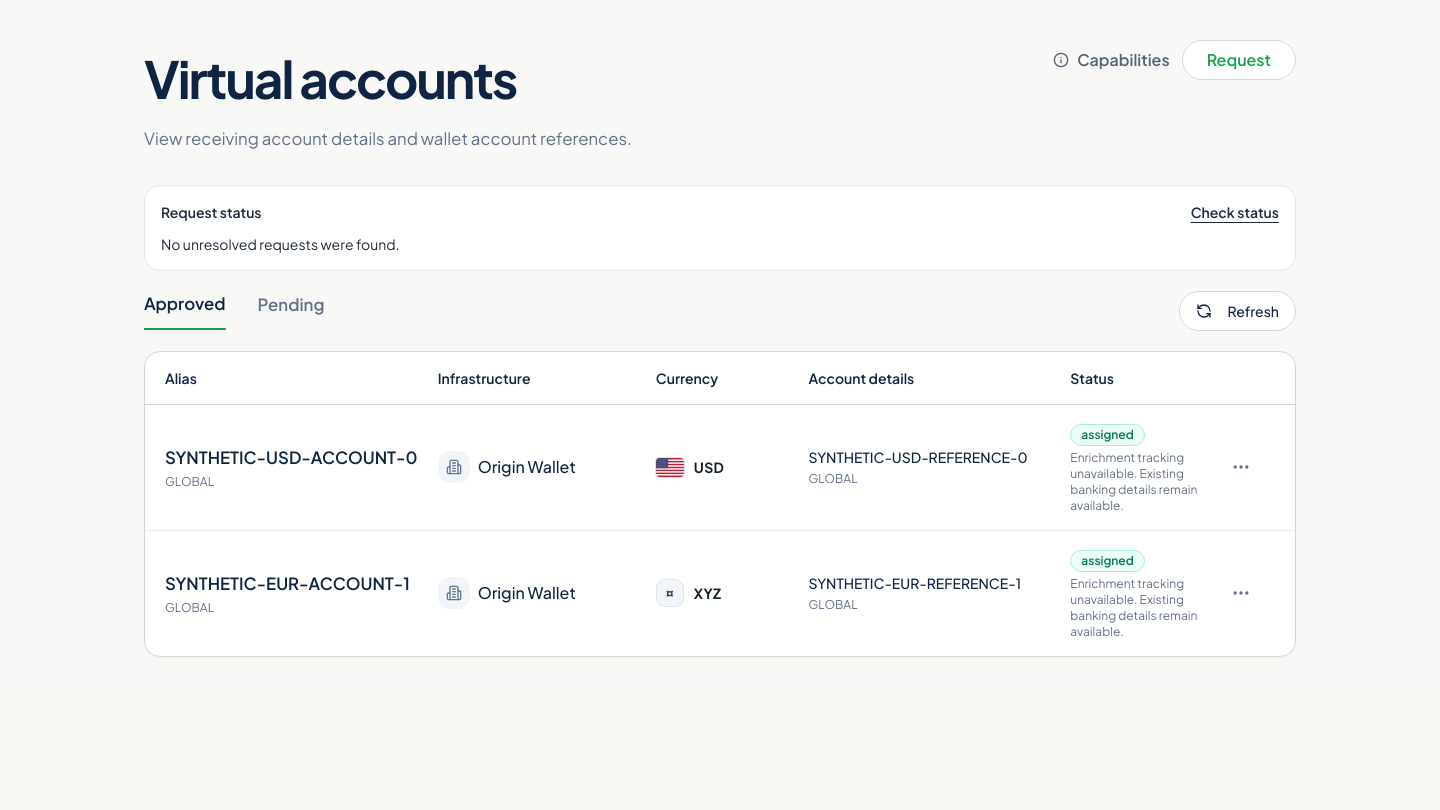
Scenario: Multi-currency VA presentation › uses the safe unknown currency fallback and never borrows another record's bank details
The width and height of the screenshot is (1440, 810).
Expected: the text "XYZ" is shown, x1=694 y1=583 x2=721 y2=604
Click the button named "View banking details for XYZ account 201".
click(1241, 593)  # box x1=1223 y1=575 x2=1259 y2=611
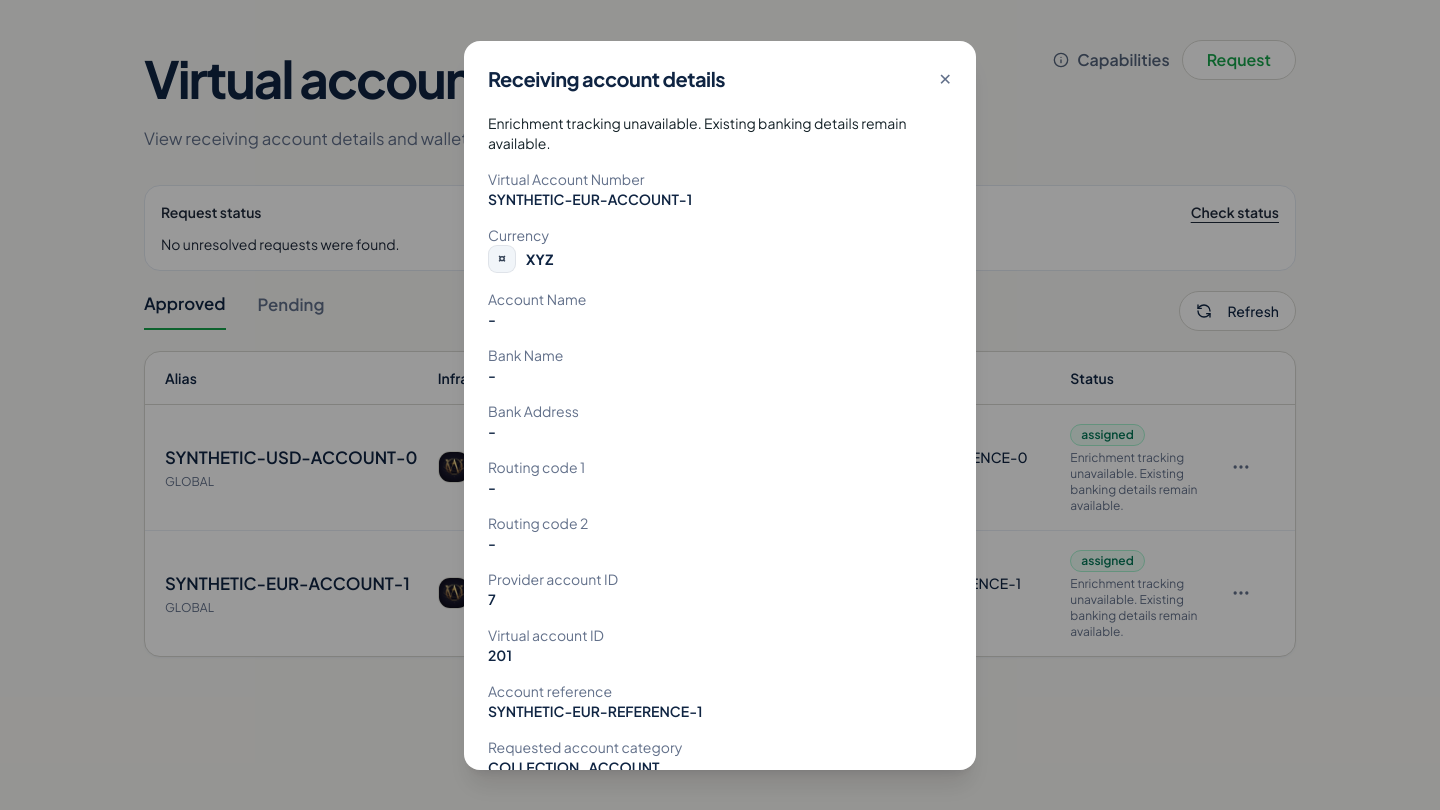
Now the text "XYZ" is shown, box x1=526 y1=248 x2=554 y2=268
Now the text "¤" is shown, box x1=488 y1=244 x2=516 y2=272
